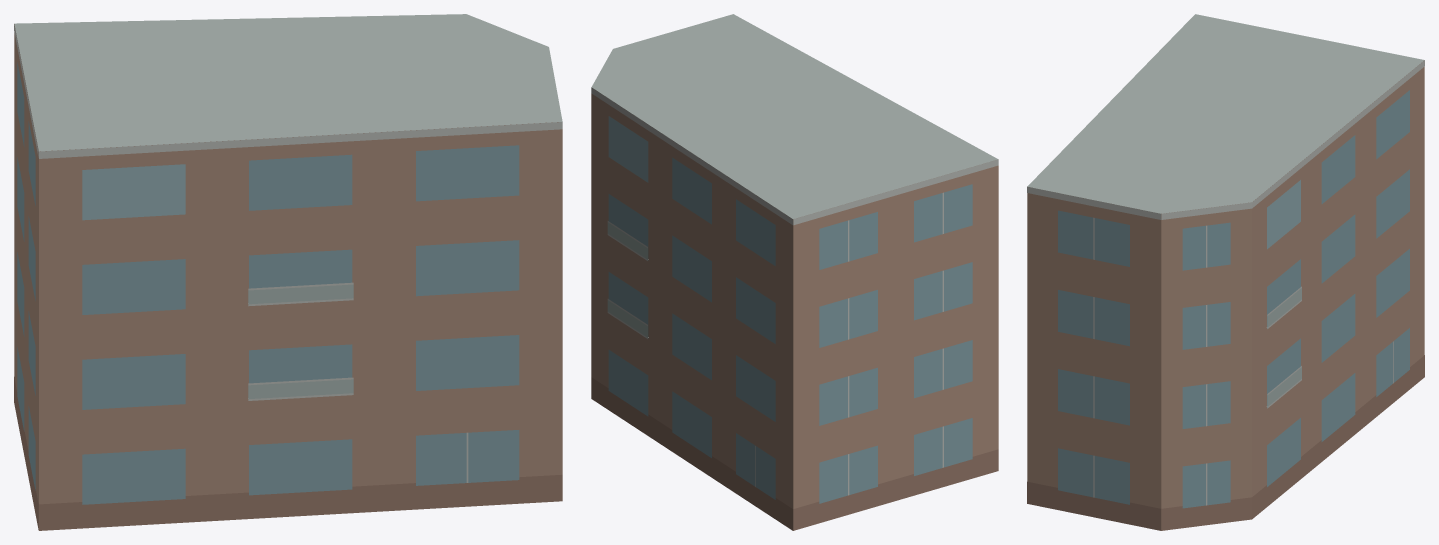
File: survey-upis-32727878.glb
3 renders of one model, left to right at view 1: azimuth 30°, elevation 25°; view 2: azimuth 150°, elevation 25°; view 3: azimuth 270°, elevation 25°, orthographic. The views are drawn at different scales.
Parts seen in each view (by area): view 1: survey-upis-32727878.tmp; view 2: survey-upis-32727878.tmp; view 3: survey-upis-32727878.tmp.
Part boxes in pixels (left/top/right/bottom): survey-upis-32727878.tmp: left=14, top=14, right=562, bottom=530; survey-upis-32727878.tmp: left=591, top=14, right=998, bottom=530; survey-upis-32727878.tmp: left=1027, top=14, right=1424, bottom=530.
Size of the model in its own units: 16.63 by 12.3 by 13.99.
